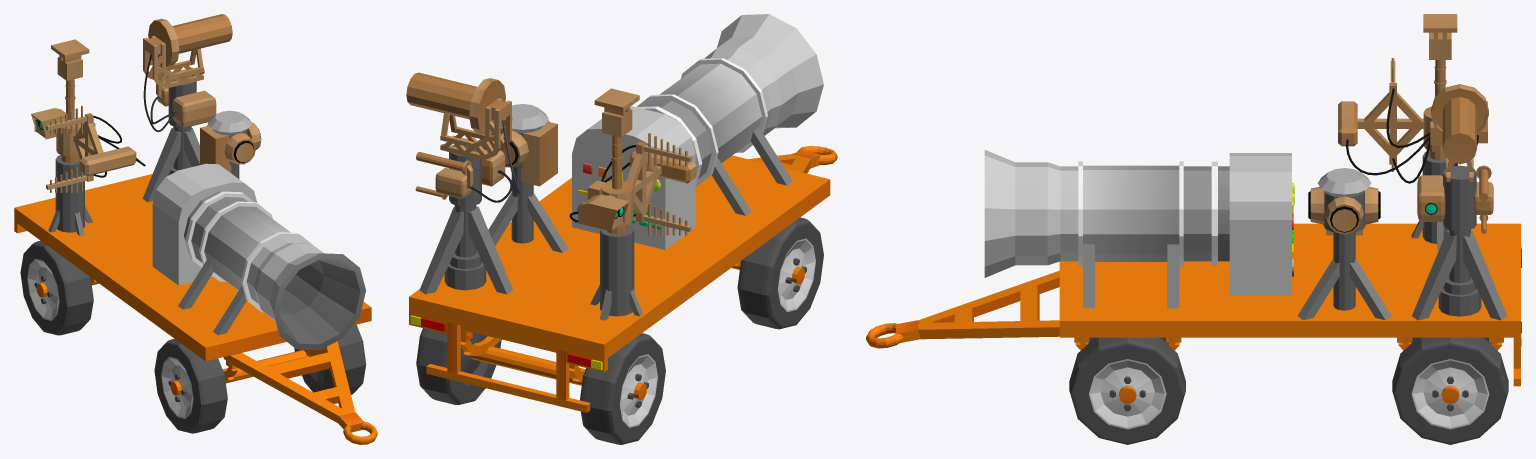
Rendered from SM_Int_EpmMachine.fbx.
3 views of the same model, side by side, from view 1: azimuth 30°, elevation 25°; view 2: azimuth 150°, elevation 25°; view 3: azimuth 270°, elevation 25° (orthographic). The views are drawn at different scales.
Parts seen in each view (by area): view 1: SM_Int_EpmMachine; view 2: SM_Int_EpmMachine; view 3: SM_Int_EpmMachine.
Part boxes in pixels (x1,y1,x2,y2): SM_Int_EpmMachine: (14,14,377,444); SM_Int_EpmMachine: (406,14,837,444); SM_Int_EpmMachine: (866,14,1521,444).
Bounding box in the file's own units: 2.49 × 3.27 × 5.69.
